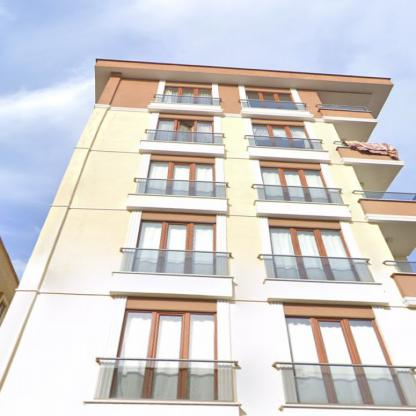window: (285, 316, 391, 365), (117, 310, 216, 360), (136, 220, 215, 251), (269, 227, 348, 257), (148, 161, 216, 181), (261, 167, 326, 187), (252, 123, 307, 138), (155, 118, 213, 132), (246, 90, 294, 102), (164, 87, 212, 97)
